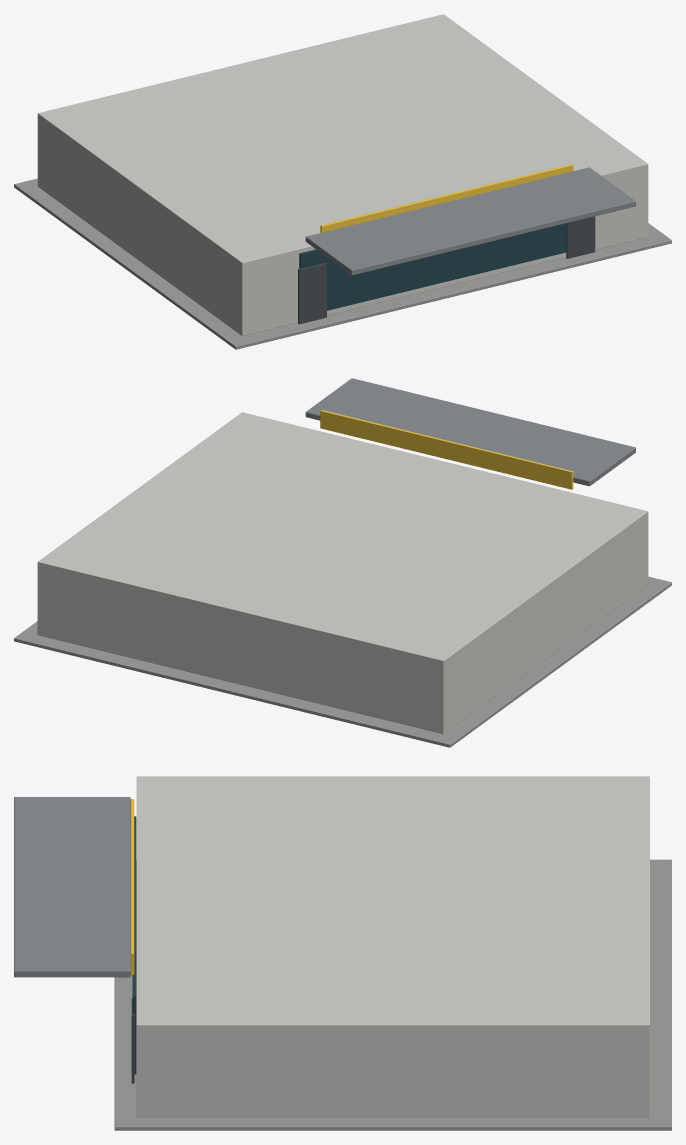
The model's file is Building_Commercial_015.glb.
The picture shows the model from 3 angles, top to bottom: view 1: azimuth 30°, elevation 25°; view 2: azimuth 150°, elevation 25°; view 3: azimuth 270°, elevation 25°; orthographic projection. The views are drawn at different scales.
Parts seen in each view (by area): view 1: Building_Commercial_015; view 2: Building_Commercial_015; view 3: Building_Commercial_015.
Part boxes in pixels (bbox=[...]): Building_Commercial_015: bbox=[14, 14, 671, 349]; Building_Commercial_015: bbox=[14, 378, 671, 747]; Building_Commercial_015: bbox=[14, 776, 671, 1130].
Bounding box in the file's own units: 21.68 × 4.59 × 22.55.
